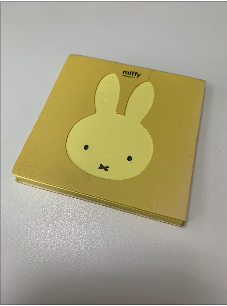Nonfood: (49, 61, 191, 210)
